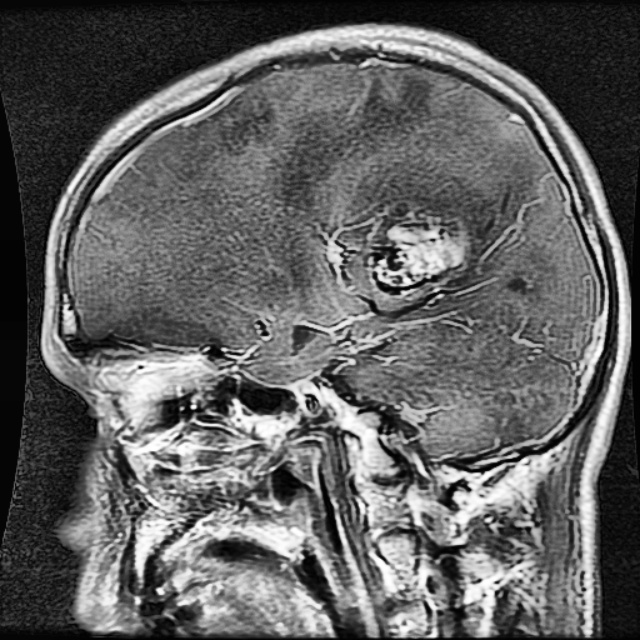Pituitary: (362, 210, 472, 297)
